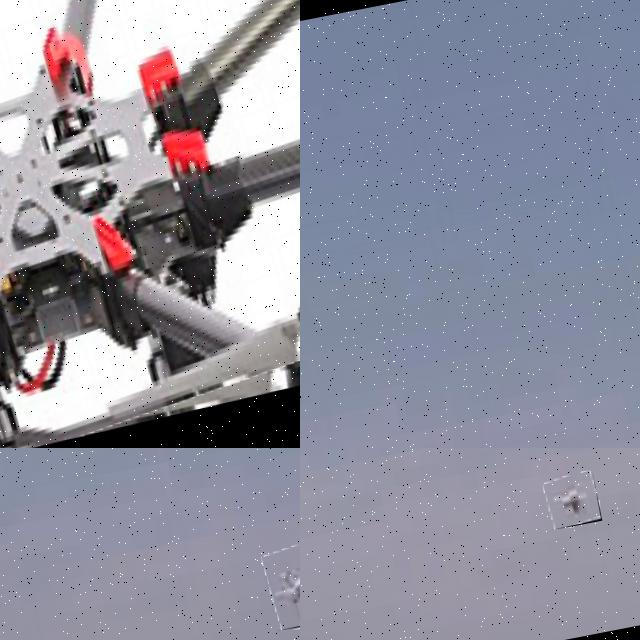drone: (0, 0, 300, 448), (542, 470, 602, 530), (262, 537, 300, 631)
